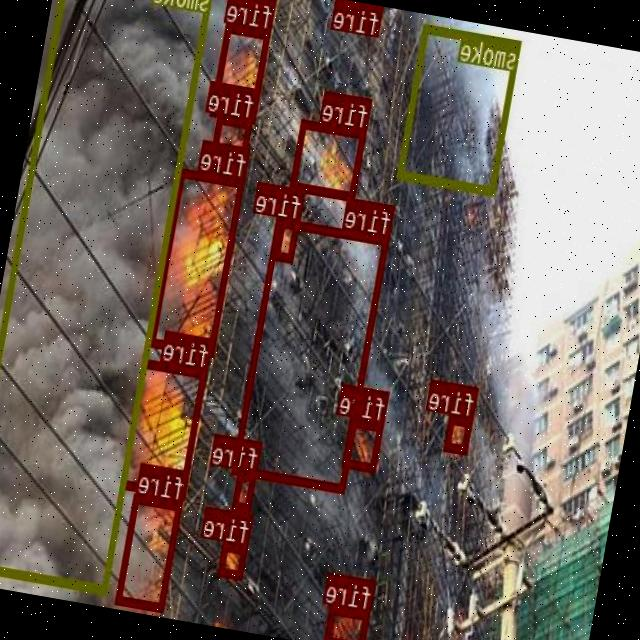fire: (233, 216, 389, 492), (150, 166, 246, 356), (122, 356, 208, 496), (116, 492, 183, 610), (290, 118, 367, 200), (211, 22, 272, 122), (210, 112, 254, 168), (343, 416, 385, 471), (325, 604, 370, 640), (274, 217, 300, 262), (444, 414, 474, 453), (220, 540, 248, 577), (234, 468, 258, 509), (348, 1, 383, 26)
smoke: (0, 0, 215, 592), (398, 23, 522, 194)
